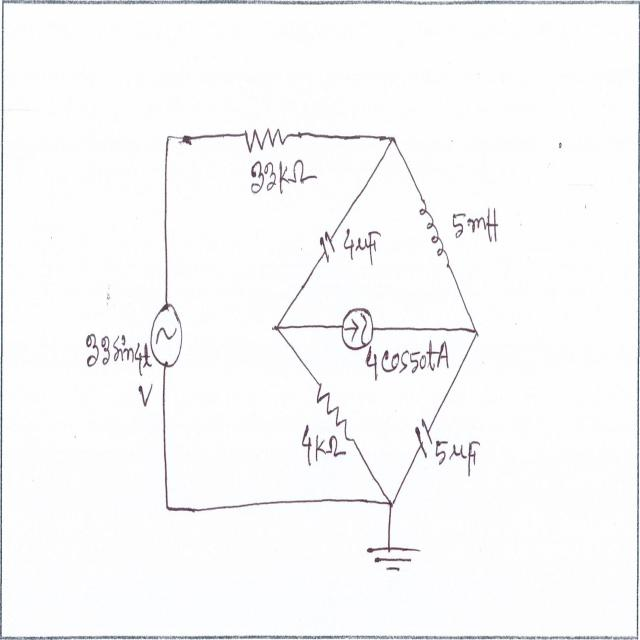ac_current: (150, 297, 182, 373)
capacitor: (410, 411, 437, 460), (315, 222, 340, 266)
current_source: (340, 298, 373, 352)
ground: (363, 542, 420, 576)
inductor: (418, 194, 450, 267)
resistor: (314, 376, 356, 444), (237, 122, 297, 153)
